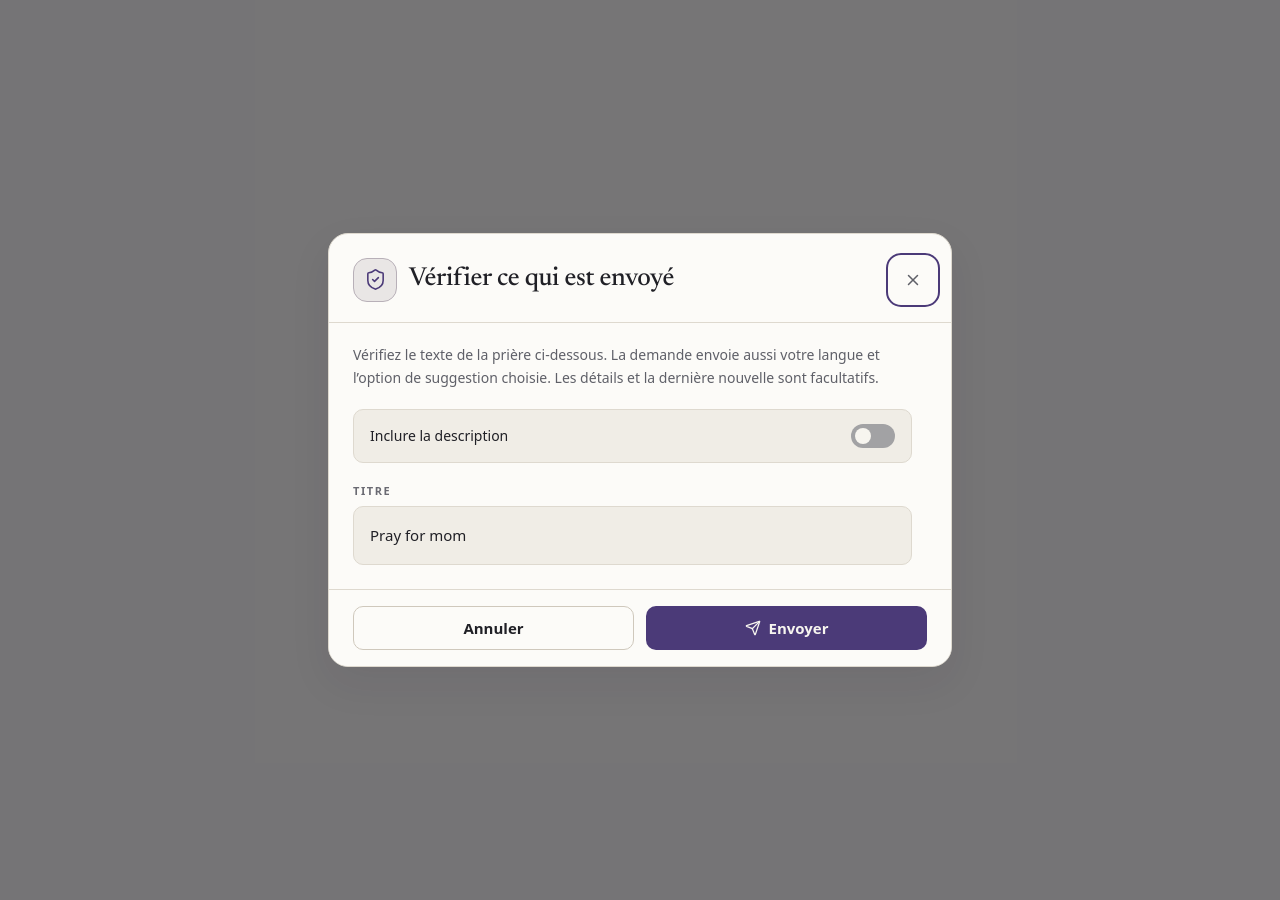
AiOutgoingPreview › reveals the (redacted) description when the user opts in
Click the switch named "Inclure la description" at (873, 436), box top-left (839, 412), bottom-right (907, 460)
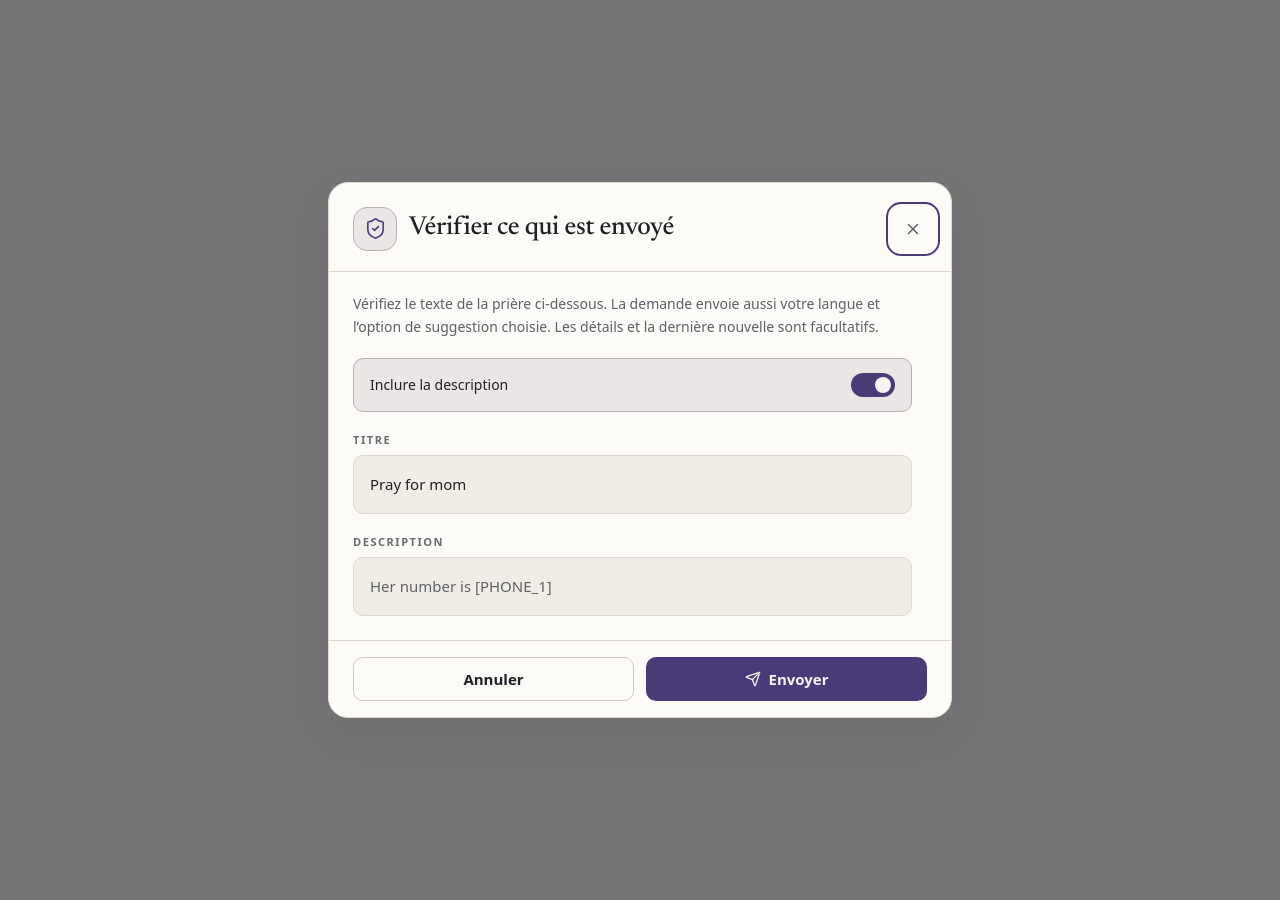
Result: the text "Her number is [PHONE_1]" is shown at top-left (353, 558), bottom-right (912, 616)
